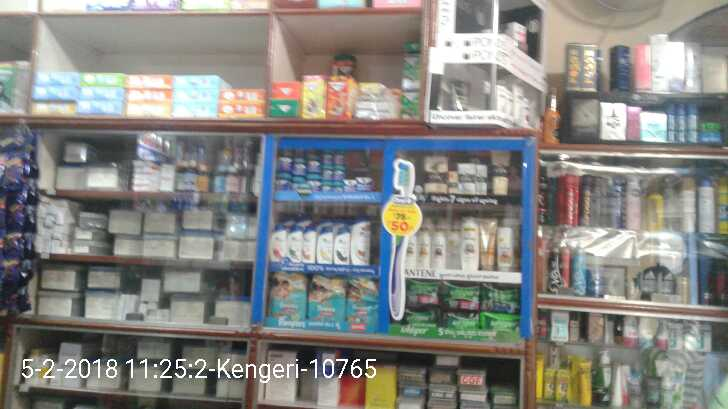beauty: (418, 152, 452, 197), (476, 214, 494, 272), (456, 161, 486, 195), (350, 216, 369, 267), (458, 217, 475, 273), (491, 151, 512, 196), (314, 222, 333, 267), (415, 229, 433, 274), (496, 223, 510, 276), (284, 224, 302, 262), (300, 221, 316, 262), (431, 230, 447, 271), (269, 218, 284, 261), (336, 221, 349, 268)
pharmacy: (306, 269, 347, 327), (346, 274, 383, 336), (266, 273, 309, 320), (479, 281, 519, 313), (437, 282, 481, 311), (402, 278, 439, 308), (442, 308, 483, 332), (482, 311, 520, 334), (399, 307, 439, 325), (321, 153, 345, 180), (344, 171, 374, 190), (275, 147, 293, 172), (272, 170, 292, 191), (306, 174, 324, 194), (308, 153, 322, 174), (320, 178, 342, 191), (293, 156, 306, 176), (290, 173, 302, 188)
